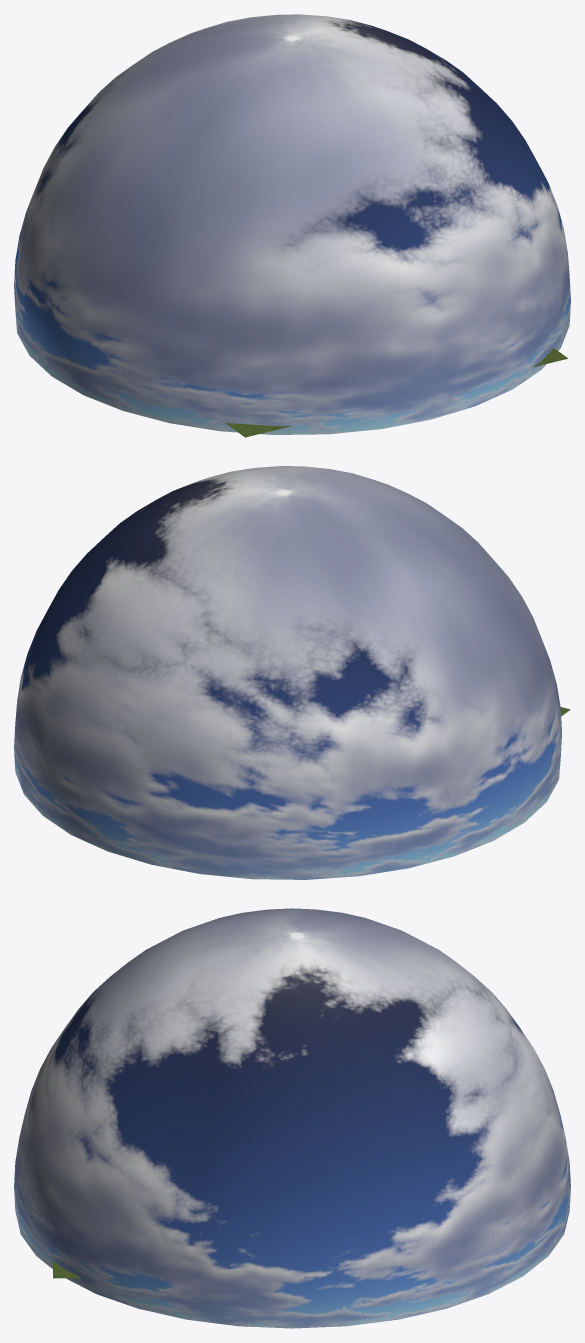
File: darkcastle2.fbx
3 renders of one model, top to bottom at view 1: azimuth 30°, elevation 25°; view 2: azimuth 150°, elevation 25°; view 3: azimuth 270°, elevation 25°, orthographic.
Visible parts, largest first — view 1: Sky.001, Ground; view 2: Sky.001; view 3: Sky.001.
Boxes of the visible parts, x1,y1,x2,y2 form: Sky.001: (14,14,570,434); Ground: (225,348,567,437); Sky.001: (14,466,561,879); Sky.001: (14,908,570,1328).
Size of the model in its own units: 1149 by 631 by 1149.
